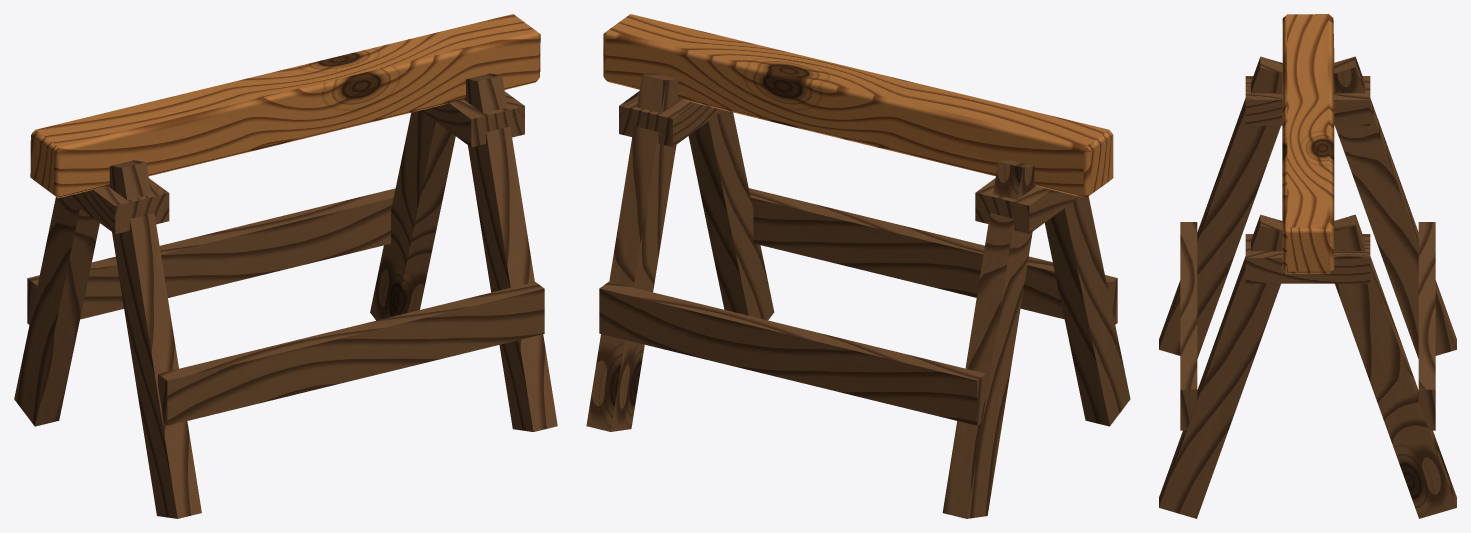
The model's file is Sawhorse.glb.
3 views of the same model, side by side, from view 1: azimuth 30°, elevation 25°; view 2: azimuth 150°, elevation 25°; view 3: azimuth 270°, elevation 25° (orthographic). The views are drawn at different scales.
Visible parts, largest first — view 1: Sawhorse; view 2: Sawhorse; view 3: Sawhorse.
Part boxes in pixels (box(x1,y1,x2,y2)): Sawhorse: box(14, 14, 557, 518); Sawhorse: box(586, 14, 1130, 518); Sawhorse: box(1159, 14, 1456, 518).
Bounding box in the file's own units: 0.9031 × 0.6117 × 0.5253.
Materials: 2 (2 with a texture image).
